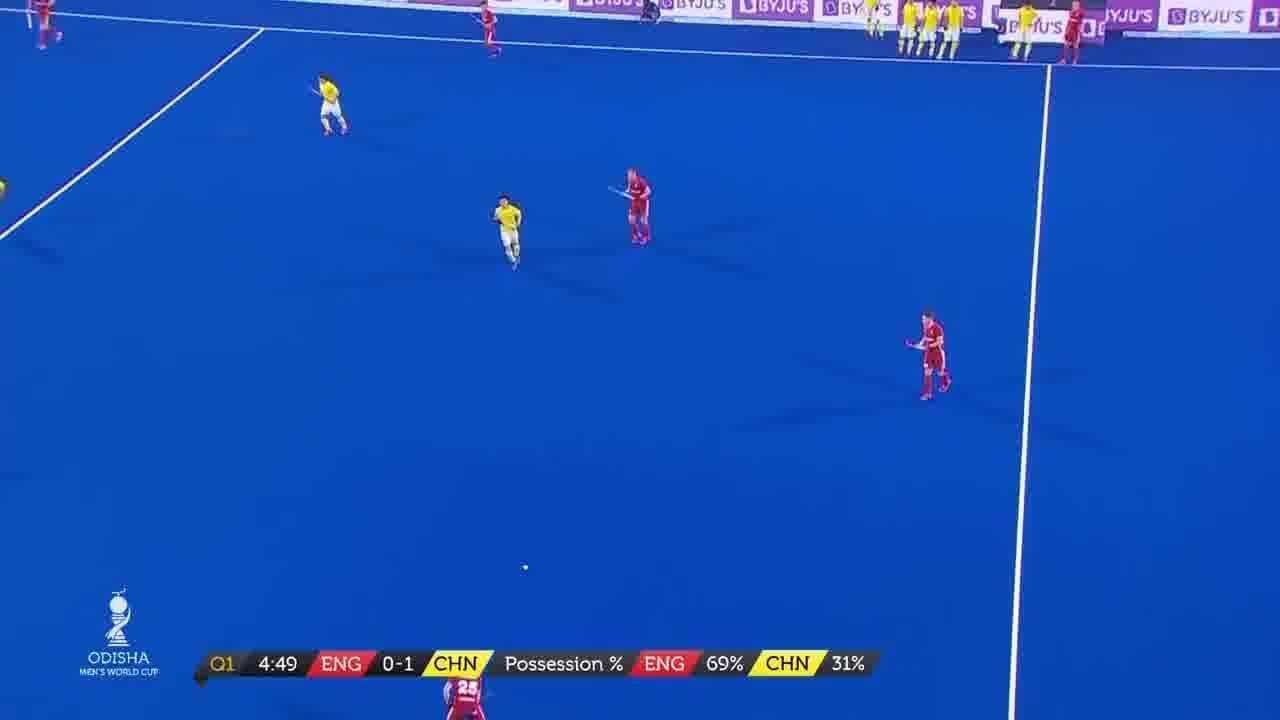ball: (511, 558, 539, 578)
